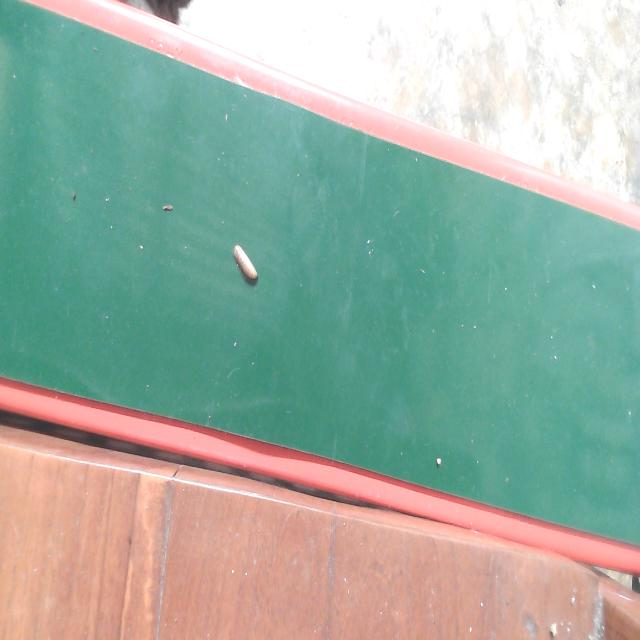Maggot: (232, 245, 260, 289)
